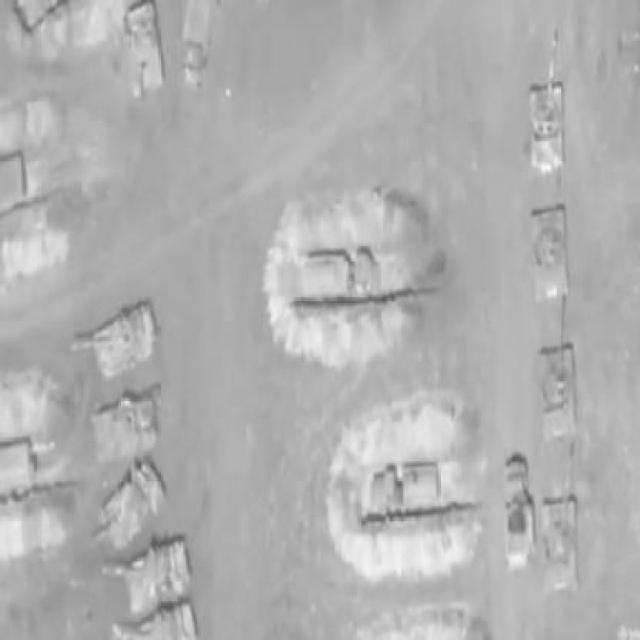Tank: (101, 530, 198, 621), (70, 295, 164, 381), (539, 438, 585, 599), (527, 27, 570, 181), (539, 296, 580, 444), (529, 172, 572, 309)
